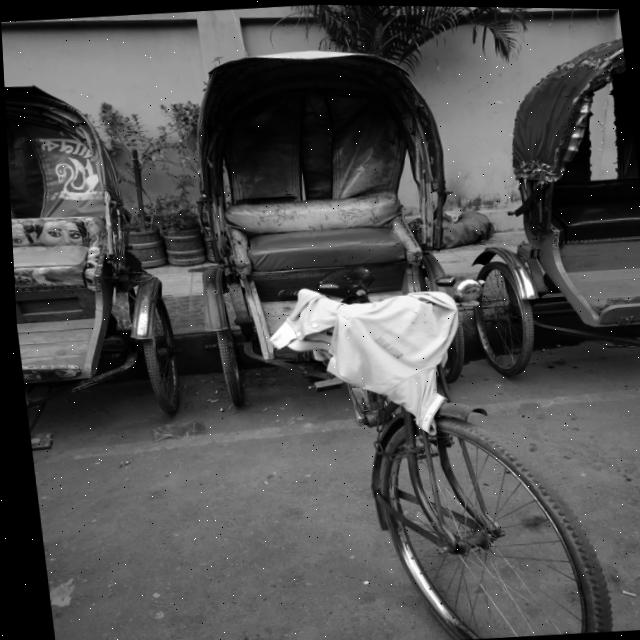rikshaw: (151, 11, 606, 640)
